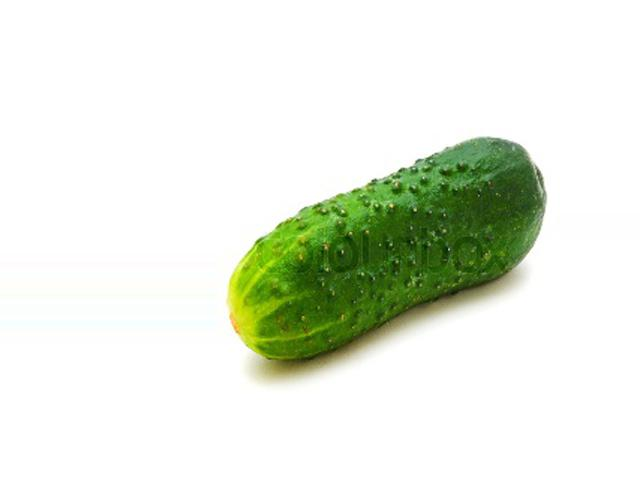cucumber: (226, 136, 544, 361)
